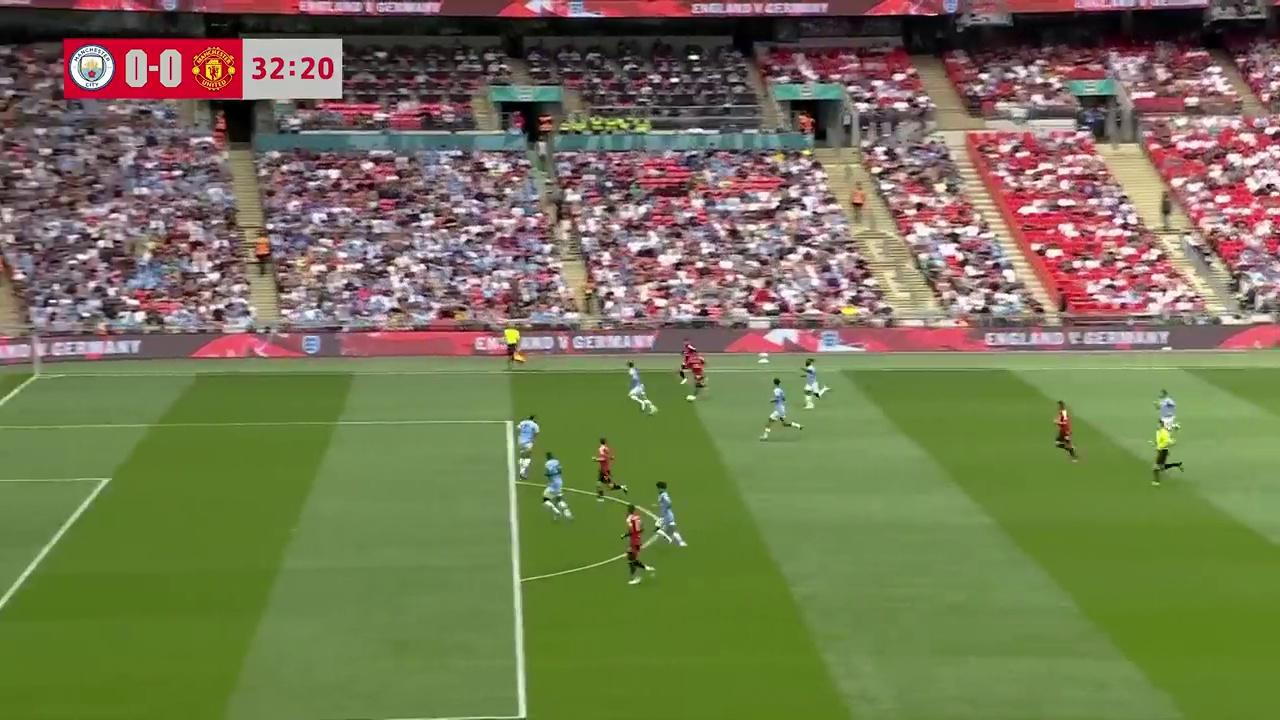ball: (685, 393, 696, 404)
player: (620, 504, 656, 585), (759, 377, 802, 440), (648, 481, 687, 548), (540, 451, 574, 521), (592, 438, 625, 503), (1052, 400, 1081, 463), (515, 413, 540, 481), (626, 361, 657, 413), (1156, 389, 1179, 438), (801, 360, 825, 406), (689, 351, 708, 398), (677, 344, 694, 386)
referee: (1150, 419, 1183, 486), (503, 324, 525, 368)
